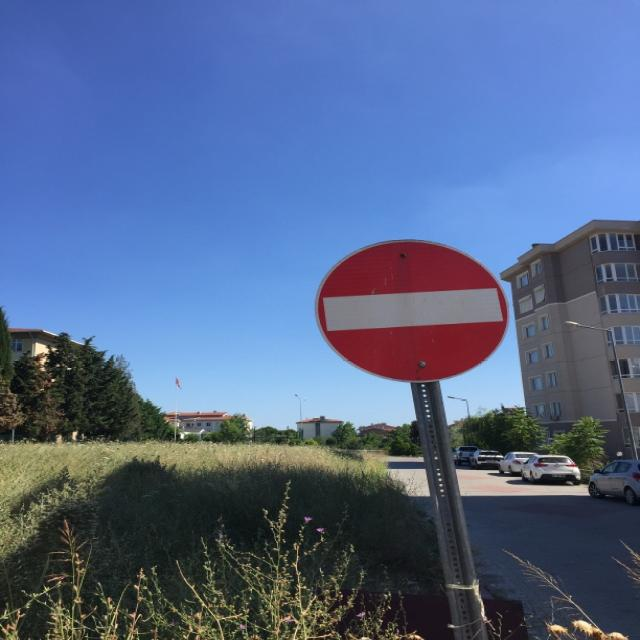girisyok: (315, 240, 509, 382)
